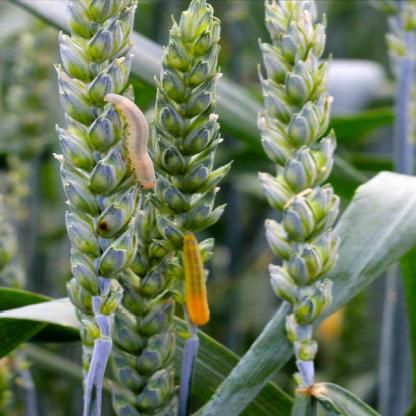sawfly: (93, 88, 172, 198), (168, 228, 223, 330)
